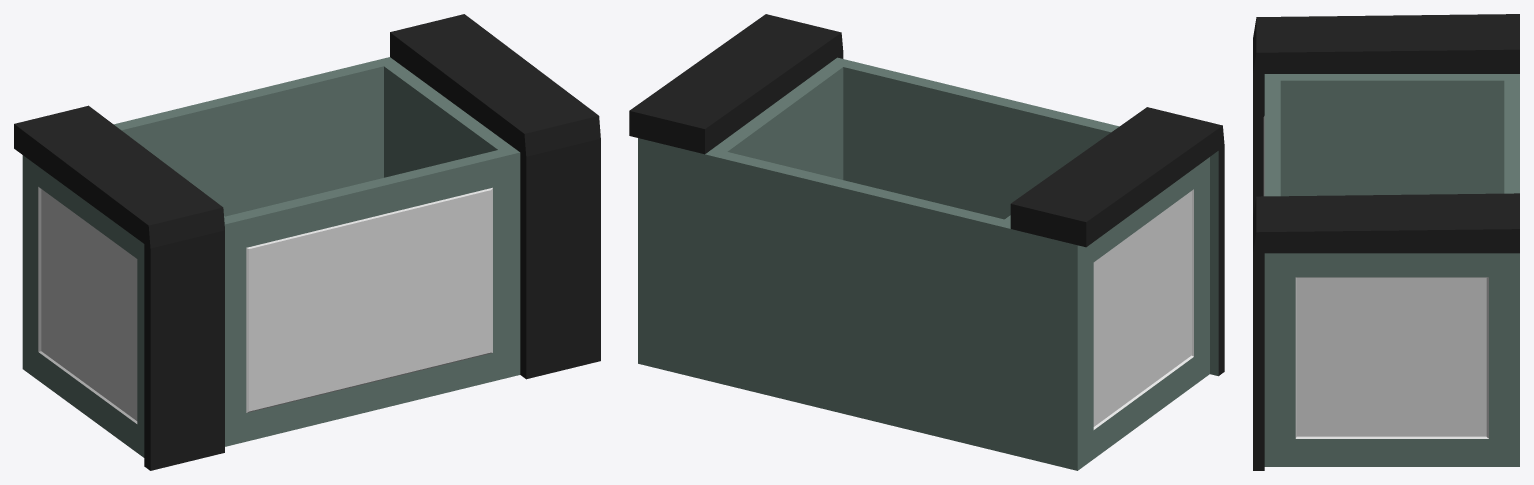
File: chest_01.glb
3 views of the same model, side by side, from view 1: azimuth 30°, elevation 25°; view 2: azimuth 150°, elevation 25°; view 3: azimuth 270°, elevation 25° (orthographic). The views are drawn at different scales.
Parts seen in each view (by area): view 1: Chest_01-col; view 2: Chest_01-col; view 3: Chest_01-col.
Boxes of the visible parts, left/top/right/bottom form: Chest_01-col: left=14, top=14, right=600, bottom=470; Chest_01-col: left=629, top=14, right=1224, bottom=470; Chest_01-col: left=1253, top=14, right=1519, bottom=470.
Bounding box in the file's own units: 1.5 × 0.7846 × 0.7846.
